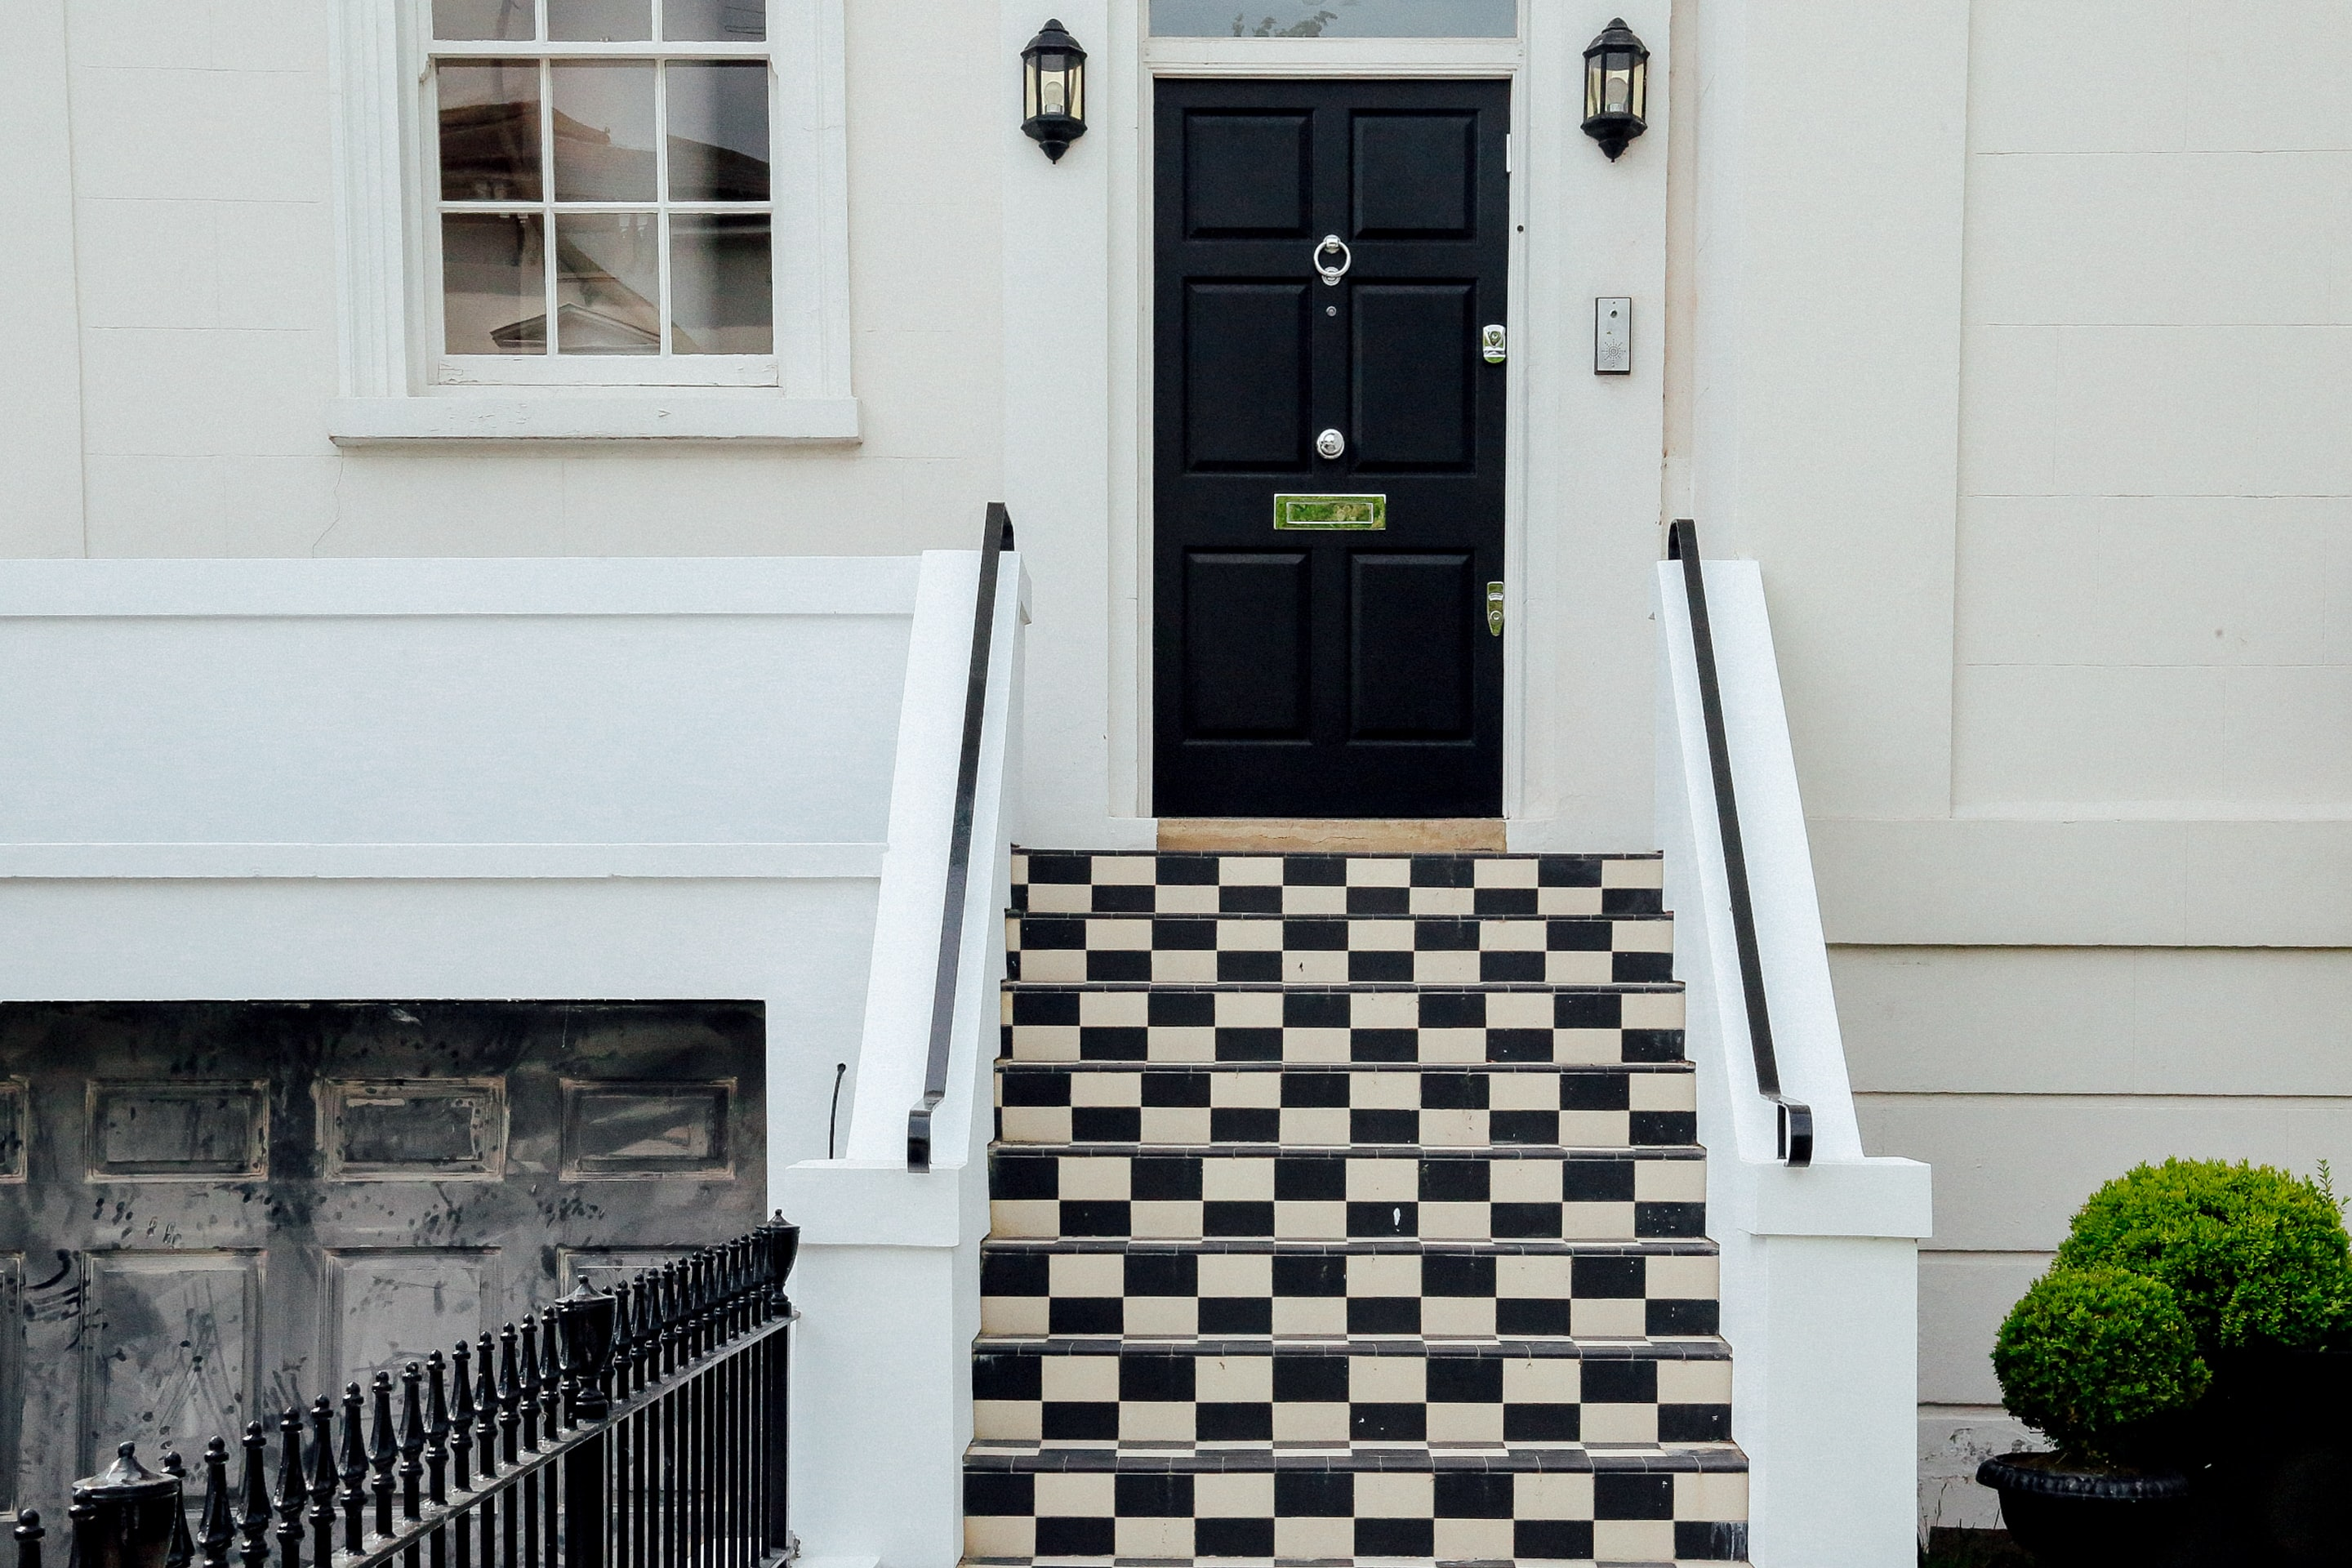upstairs: (1048, 831, 1650, 1568)
